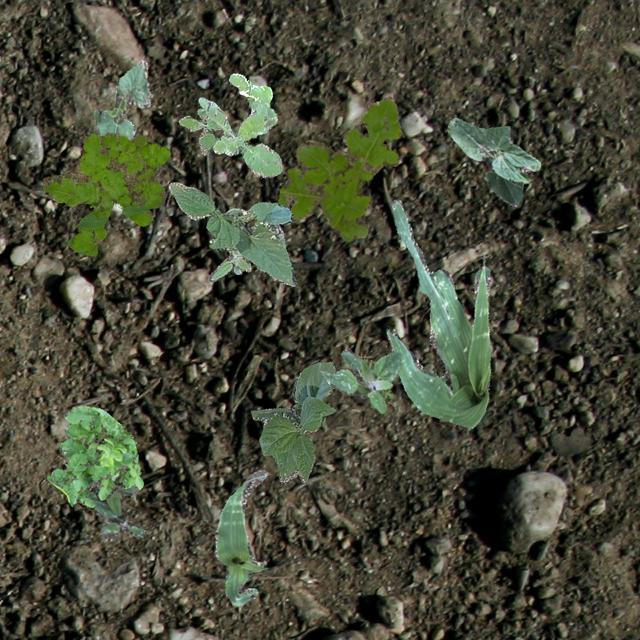crop: (386, 198, 490, 428), (168, 182, 296, 284), (250, 361, 334, 482), (446, 117, 540, 206), (214, 468, 266, 606), (92, 59, 150, 140)
weed: (278, 95, 400, 242), (42, 132, 170, 255), (46, 404, 142, 508), (198, 72, 280, 176), (318, 350, 402, 412), (208, 208, 250, 280), (88, 484, 146, 536), (178, 108, 220, 154), (356, 354, 394, 402)
